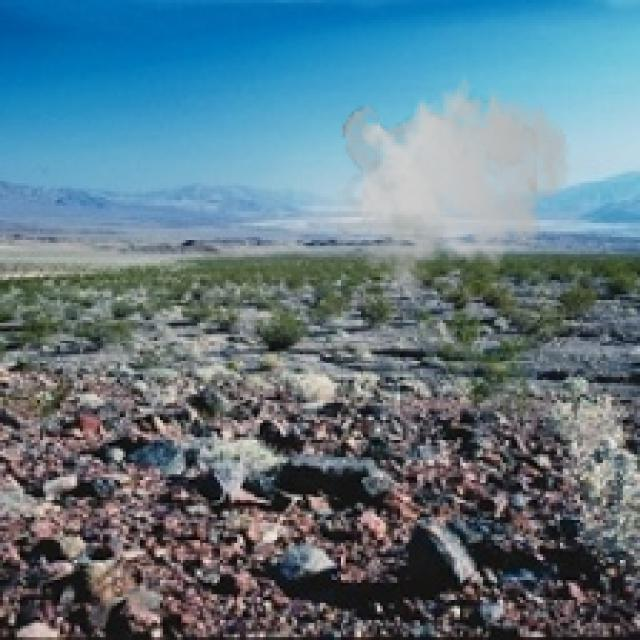Smoke: (337, 66, 572, 294)
